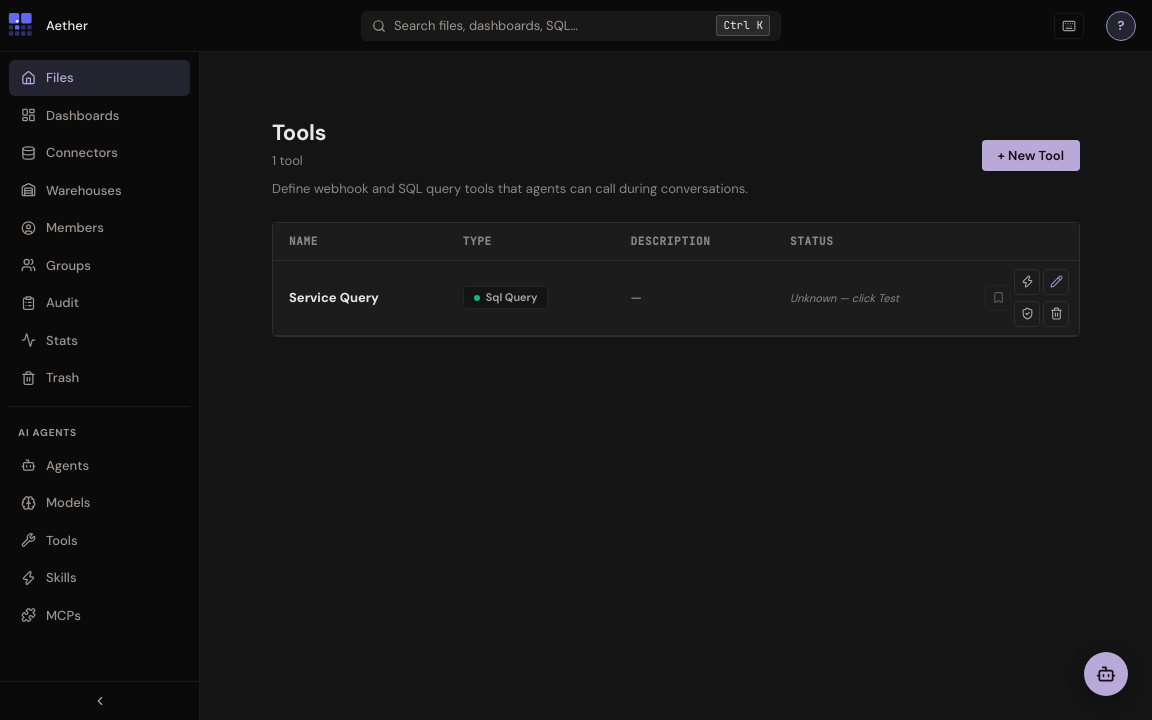
Scenario: ToolsPage › a tool with a visible connector shows no unavailable hint
This screenshot has width=1152, height=720.
Check: the text "Service Query" is shown, box [289, 289, 379, 306]
Step 1. Click the button named "Edit tool" → (1056, 282), box [1043, 268, 1069, 294]
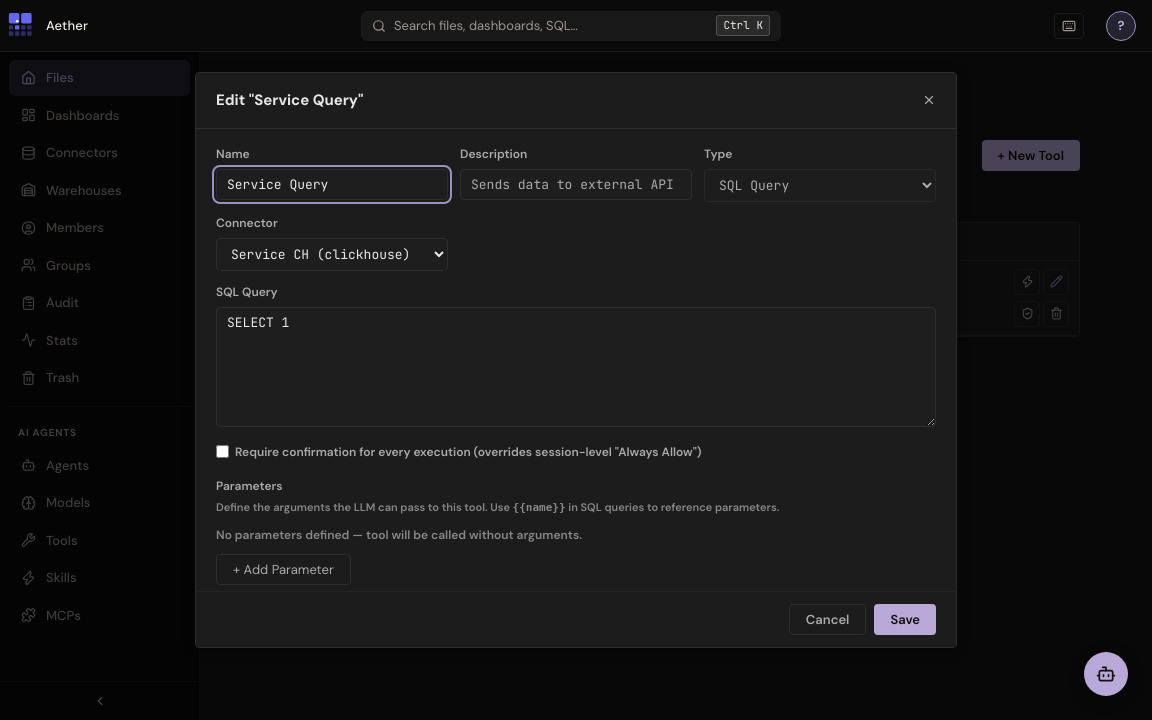
Check: the dropdown labelled "Connector" shows "Service CH (clickhouse)", box [216, 238, 448, 270]
